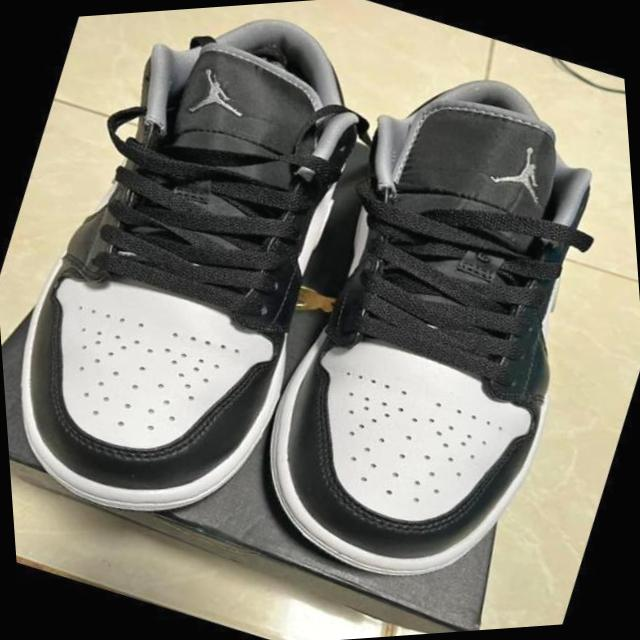nike_original_jordan: (207, 36, 640, 625), (0, 0, 424, 565)
